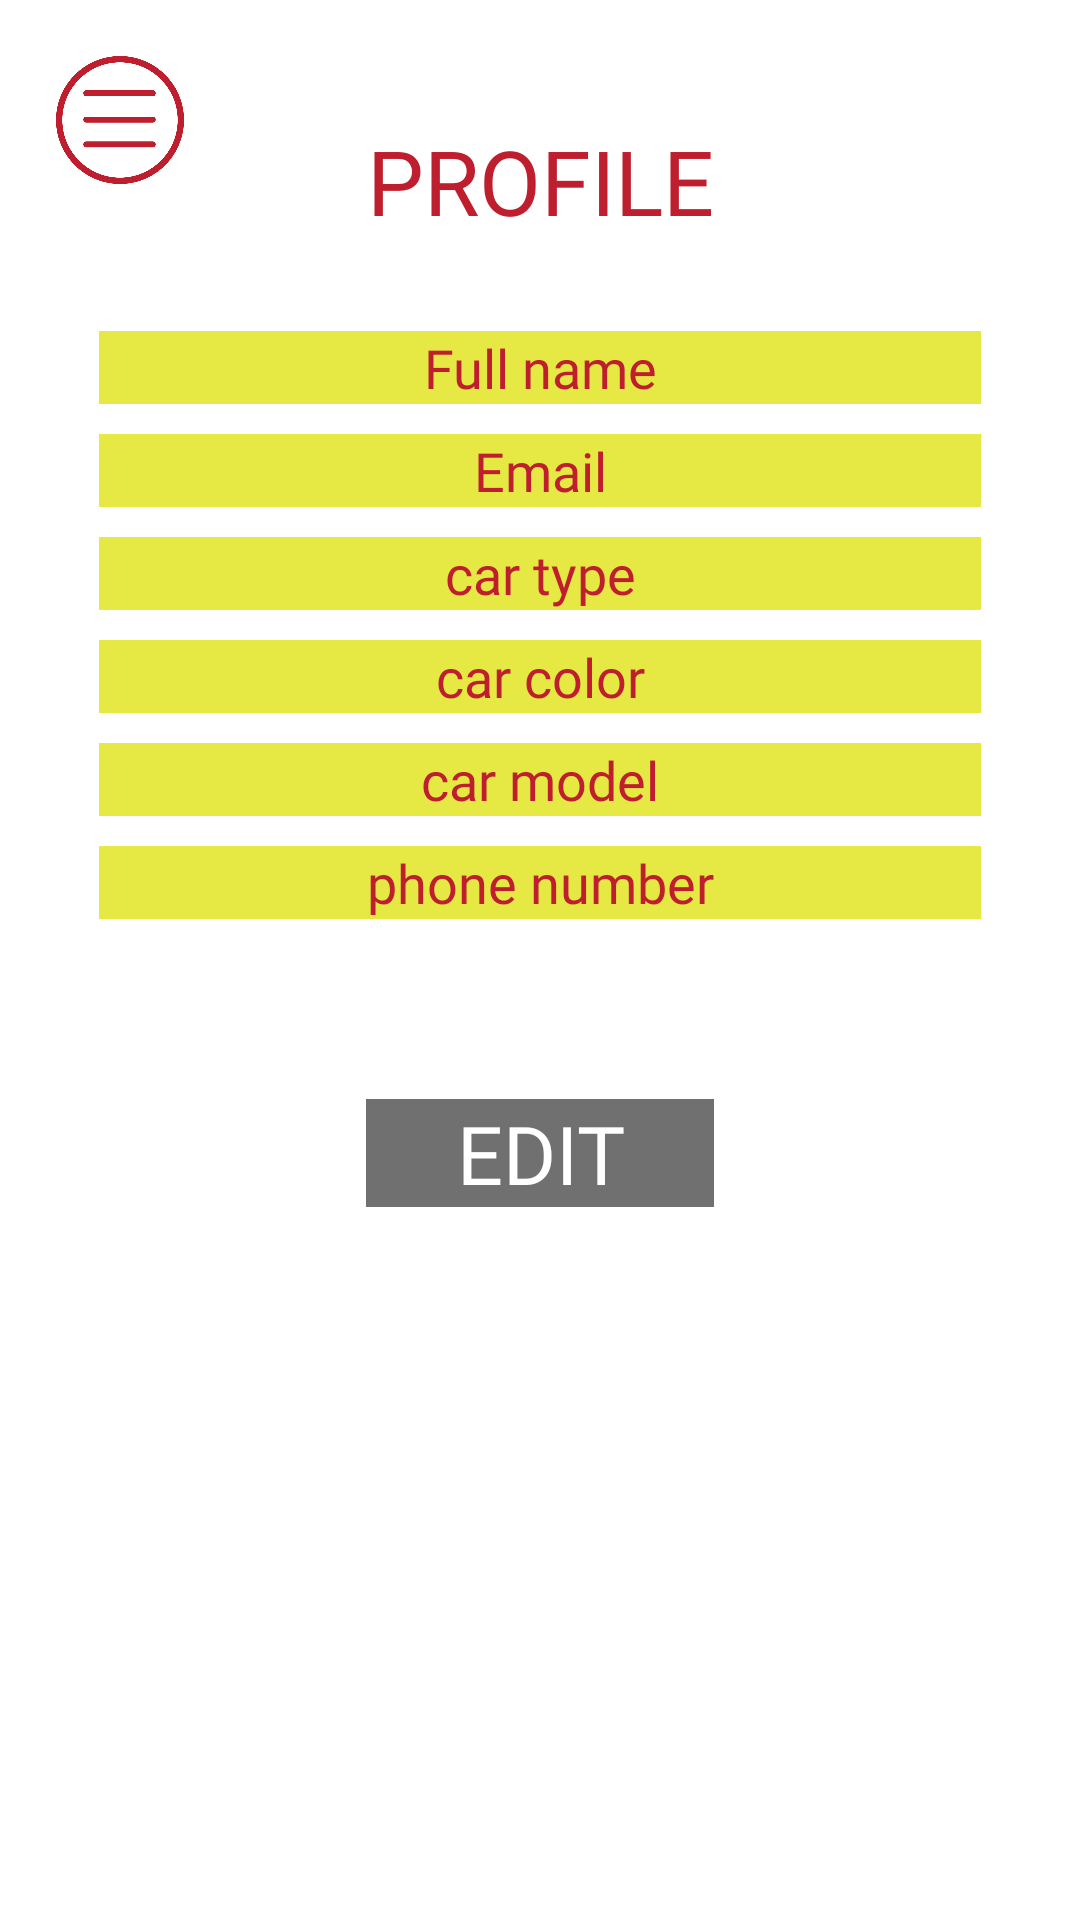

Where to tap for icons on this 1080px×1920px app screen, as (x,y):
menu: (120,120)
